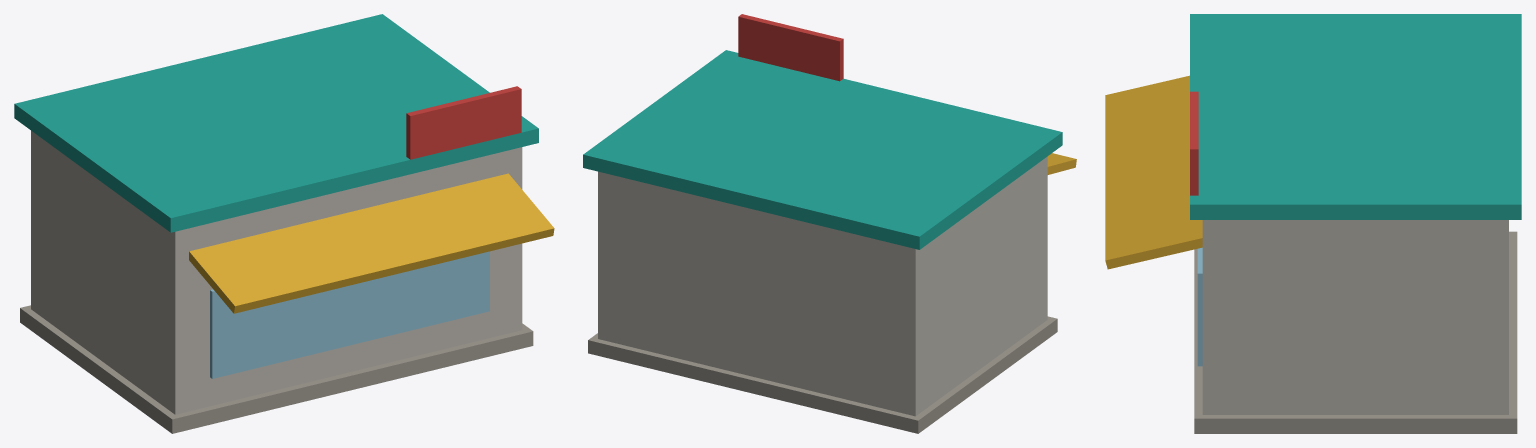
File: shop.glb
The picture shows the model from 3 angles, left to right: view 1: azimuth 30°, elevation 25°; view 2: azimuth 150°, elevation 25°; view 3: azimuth 270°, elevation 25°; orthographic projection. The views are drawn at different scales.
Visible parts, largest first — view 1: shop; view 2: shop; view 3: shop.
Boxes of the visible parts, x1=… form: shop: x1=14, y1=14, x2=554, y2=433; shop: x1=583, y1=14, x2=1076, y2=433; shop: x1=1105, y1=14, x2=1521, y2=433.
Bounding box in the file's own units: 5.3 × 3.6 × 4.9.
